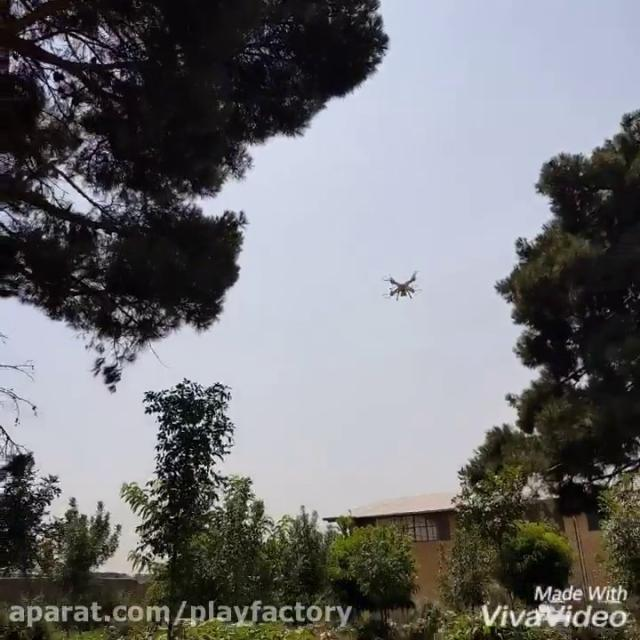drone: (381, 264, 426, 301)
